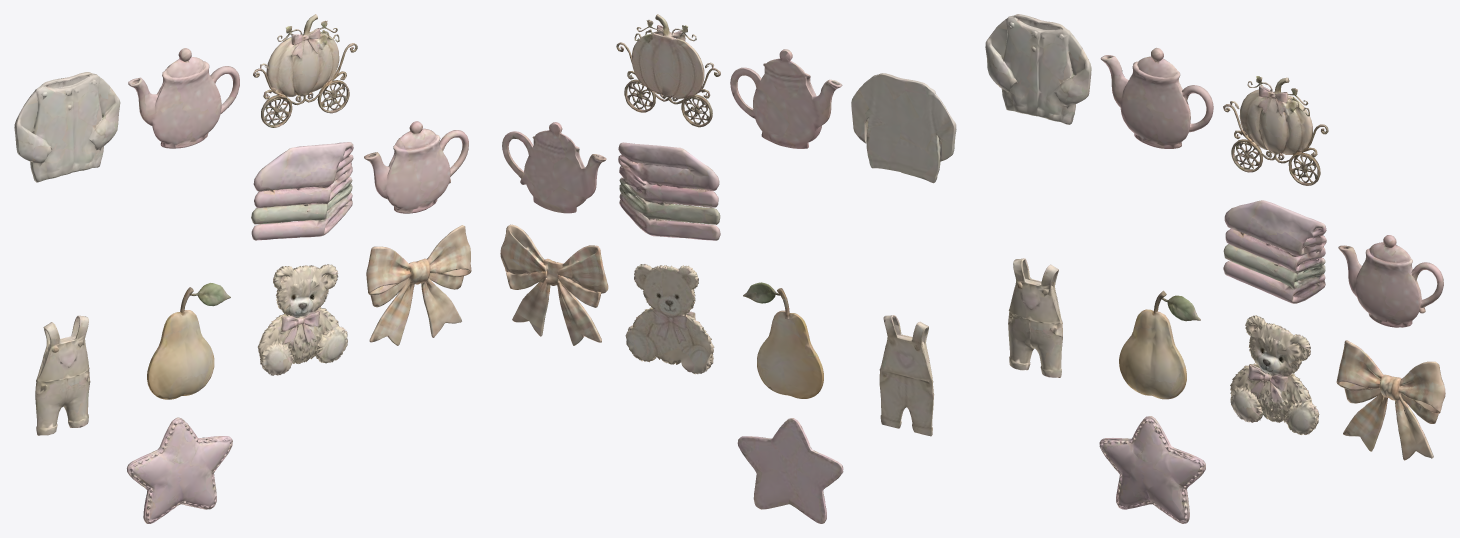
3 renders of one model, left to right at view 1: azimuth 30°, elevation 25°; view 2: azimuth 150°, elevation 25°; view 3: azimuth 330°, elevation 25°, orthographic.
Parts seen in each view (by area): view 1: Mesh 1, Mesh 10, Mesh 15, Mesh 12, Mesh 5, Mesh 6, Mesh 11, Mesh 14, Mesh 8, Mesh 3; view 2: Mesh 1, Mesh 10, Mesh 15, Mesh 12, Mesh 5, Mesh 11, Mesh 6, Mesh 14, Mesh 3, Mesh 8; view 3: Mesh 1, Mesh 10, Mesh 15, Mesh 12, Mesh 5, Mesh 6, Mesh 11, Mesh 14, Mesh 8, Mesh 3.
Boxes of the visible parts, x1,y1,x2,y2 form: Mesh 1: (14,72,120,182); Mesh 10: (251,142,353,240); Mesh 15: (366,225,471,345); Mesh 12: (257,264,347,375); Mesh 5: (126,417,232,523); Mesh 6: (128,48,239,148); Mesh 11: (253,14,357,127); Mesh 14: (364,121,468,213); Mesh 8: (147,283,230,399); Mesh 3: (35,315,90,435); Mesh 1: (851,73,956,183); Mesh 10: (618,142,720,240); Mesh 15: (500,224,608,345); Mesh 12: (625,264,714,374); Mesh 5: (737,418,843,523); Mesh 11: (616,14,720,127); Mesh 6: (730,49,842,148); Mesh 14: (502,122,606,213); Mesh 3: (879,315,934,436); Mesh 8: (743,282,823,398); Mesh 1: (985,14,1091,124); Mesh 10: (1223,200,1326,303); Mesh 15: (1336,340,1445,460); Mesh 12: (1230,315,1319,434); Mesh 5: (1099,416,1205,523); Mesh 6: (1100,47,1213,148); Mesh 11: (1223,76,1328,185); Mesh 14: (1338,235,1443,327); Mesh 8: (1119,290,1200,399); Mesh 3: (1008,258,1062,377).
Bounding box in the file's own units: 1.9 × 1.87 × 0.0566.
10 materials, 10 textured.
